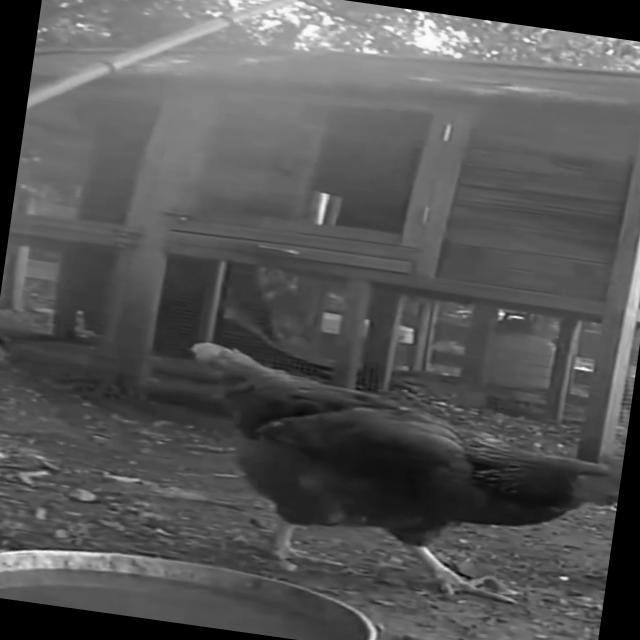walking: (148, 332, 632, 633)
